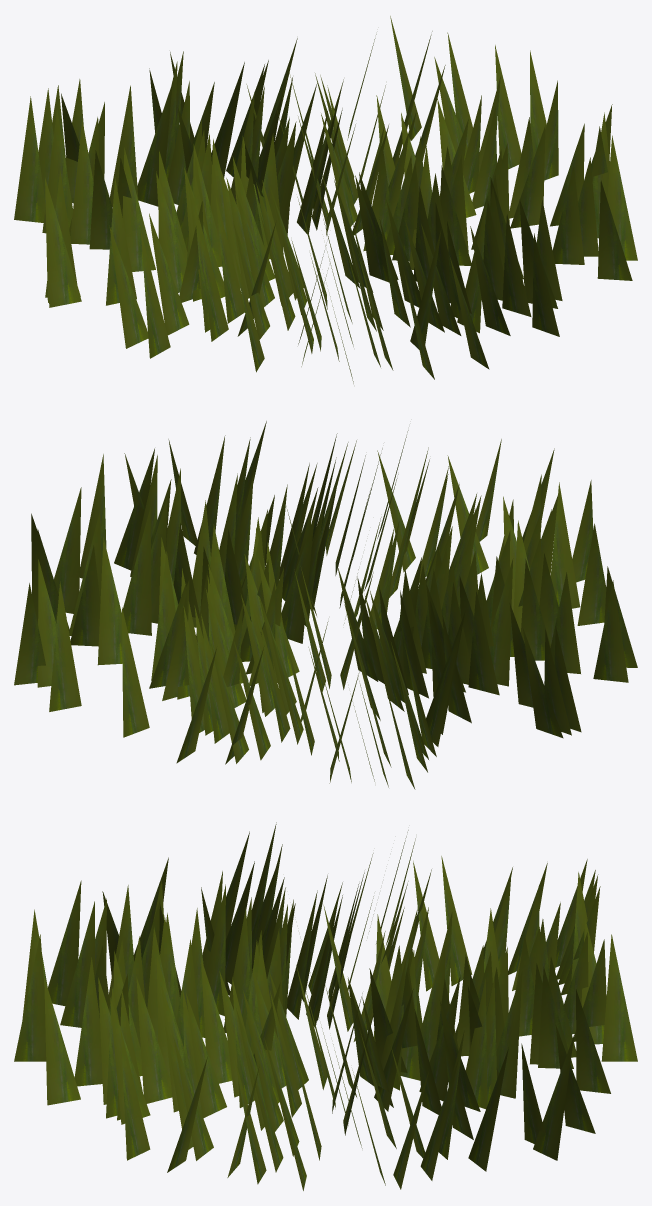
The model's file is forest_grass2_LOD1.fbx.
3 renders of one model, top to bottom at view 1: azimuth 30°, elevation 25°; view 2: azimuth 150°, elevation 25°; view 3: azimuth 270°, elevation 25°, orthographic. The views are drawn at different scales.
Visible parts, largest first — view 1: StaticMeshActor_3_StaticMeshComponent0.001; view 2: StaticMeshActor_3_StaticMeshComponent0.001; view 3: StaticMeshActor_3_StaticMeshComponent0.001.
Part boxes in pixels (left/top/right/bottom): StaticMeshActor_3_StaticMeshComponent0.001: left=14, top=16, right=637, bottom=383; StaticMeshActor_3_StaticMeshComponent0.001: left=14, top=421, right=637, bottom=789; StaticMeshActor_3_StaticMeshComponent0.001: left=14, top=822, right=637, bottom=1190.
Bounding box in the file's own units: 6.97 × 1.43 × 7.01.
